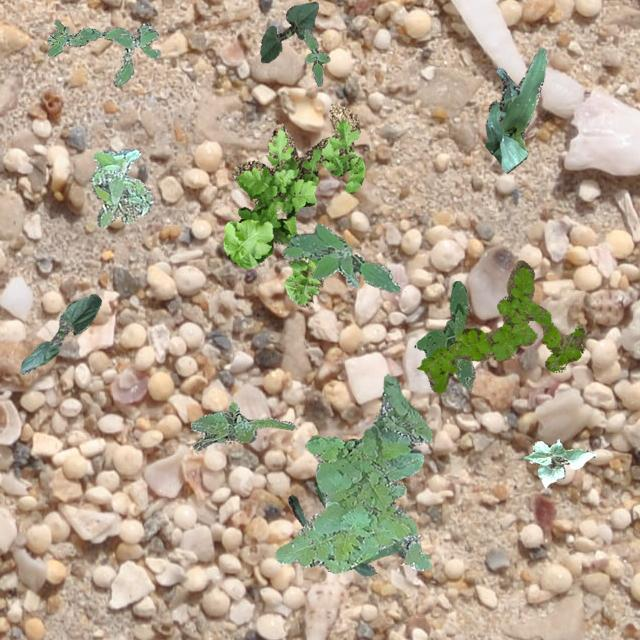crop: (288, 482, 406, 576), (484, 47, 546, 172), (20, 292, 100, 372), (260, 1, 318, 62), (522, 438, 594, 486)
weed: (274, 374, 432, 572), (224, 102, 364, 306), (416, 259, 584, 392), (282, 224, 398, 292), (416, 280, 474, 390), (190, 402, 294, 449), (90, 148, 152, 226), (102, 23, 160, 86), (46, 18, 101, 56), (302, 28, 328, 86)
